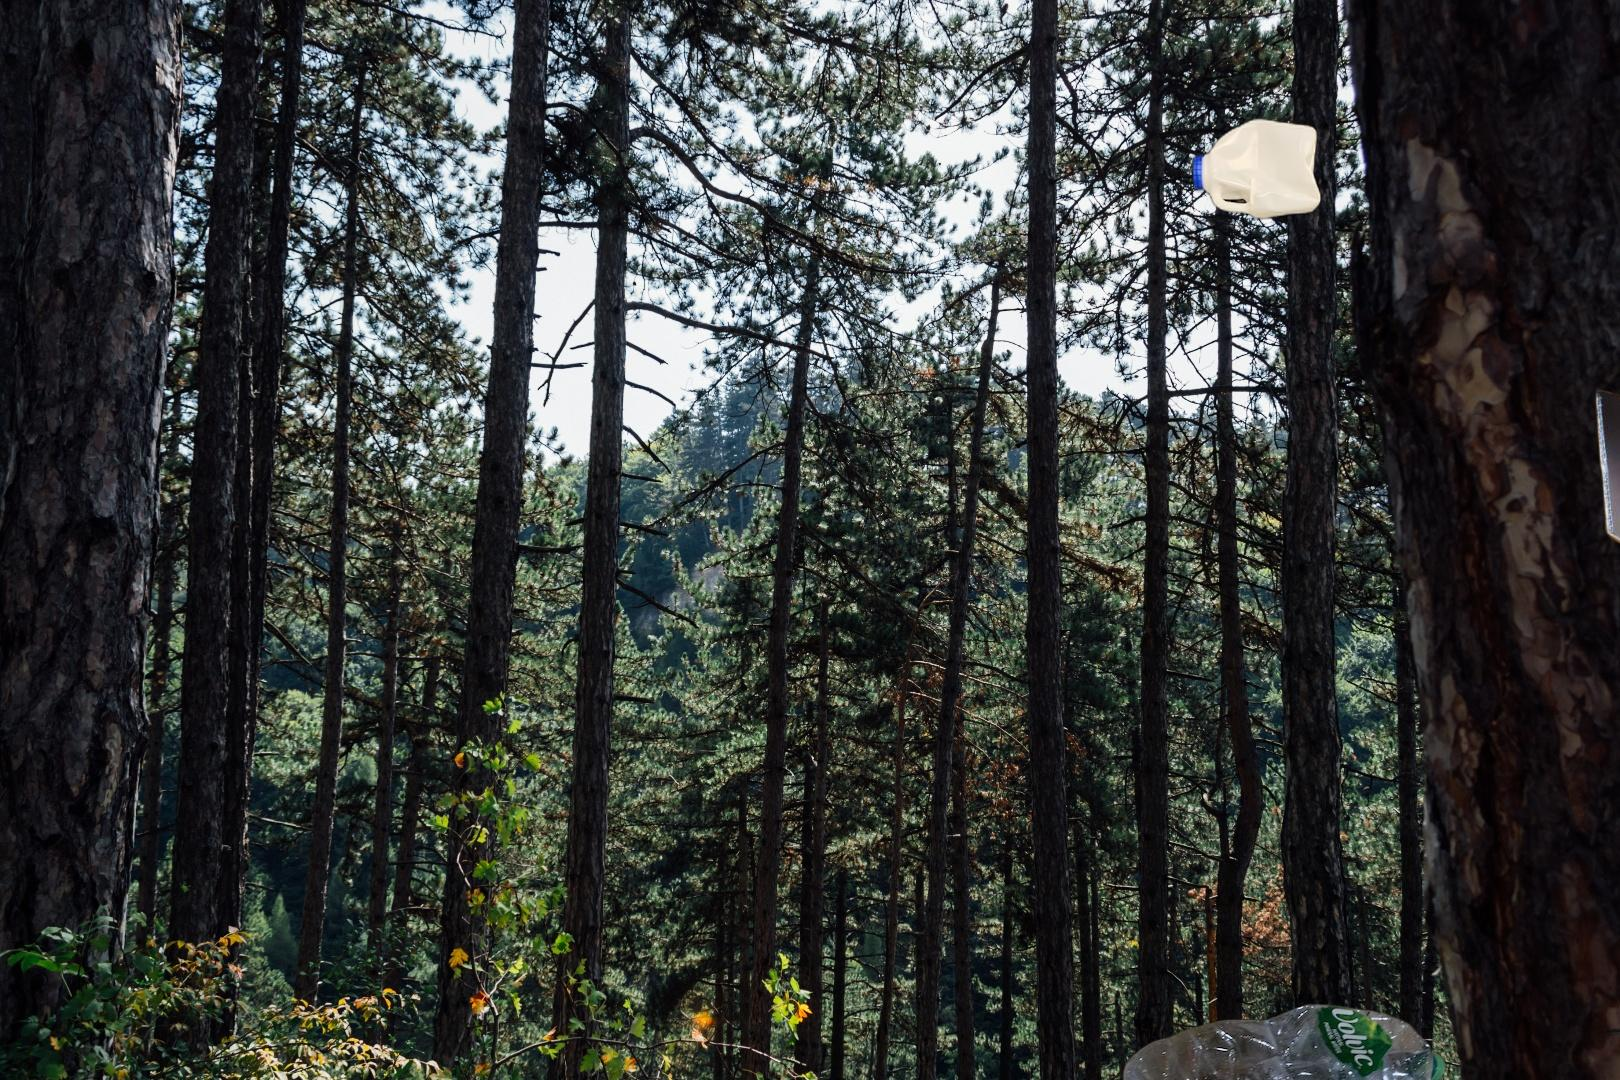plastic-bottles: (1119, 1000, 1557, 1080), (1187, 113, 1326, 225), (1606, 861, 1620, 1080)
trashbox-cardboard: (1586, 341, 1620, 652)
